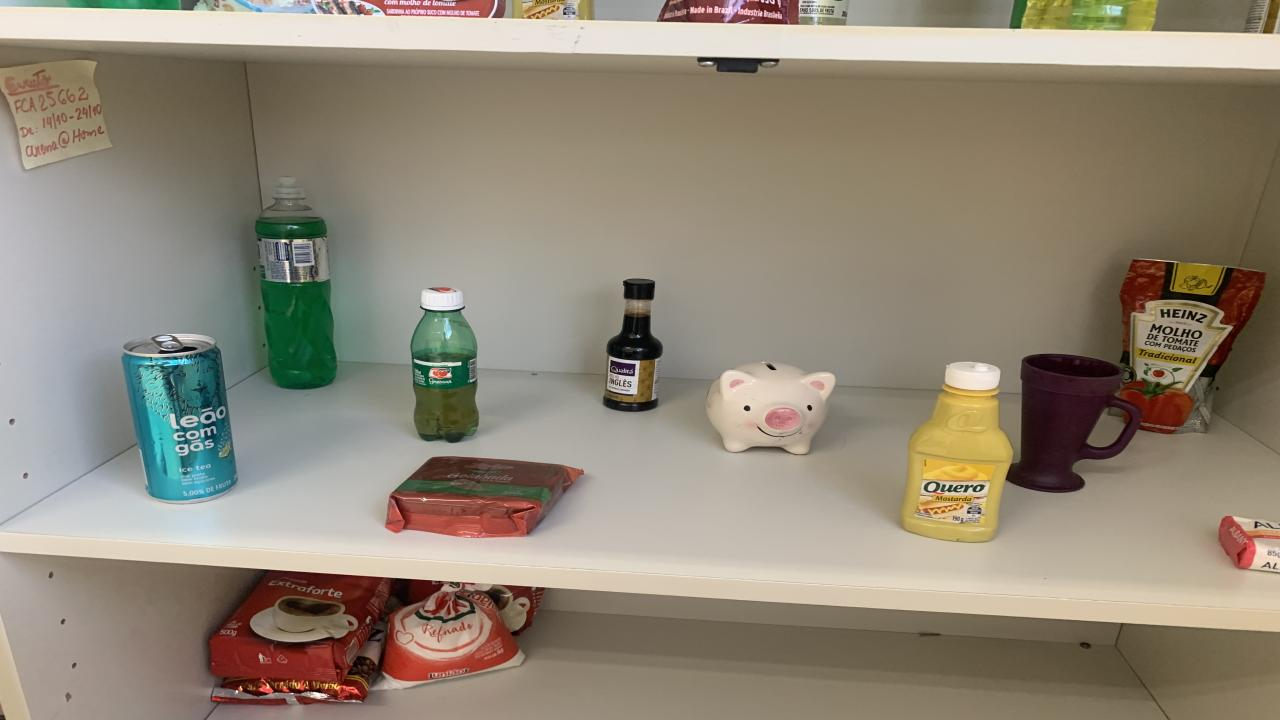Detergent-Cleanup_Items: (255, 176, 338, 388), (1020, 0, 1158, 30)
English_Sauce-Pantry_Items: (602, 278, 662, 411)
Guarana-Drinks: (410, 287, 478, 442)
Guava-Snacks: (388, 456, 582, 536)
Mustard-Pantry_Items: (902, 362, 1012, 542), (512, 0, 595, 21)
Pig_Safe-Miscellaneous: (708, 362, 835, 454)
Soap-Cleanup_Items: (1220, 516, 1280, 572)
Soda-Drinks: (798, 0, 848, 26)
Tea-Drinks: (122, 334, 238, 502)
Tomato_Sauce-Pantry_Items: (1120, 259, 1265, 433), (658, 0, 798, 24)
Tuna_Can-Pantry_Items: (312, 0, 505, 17)
